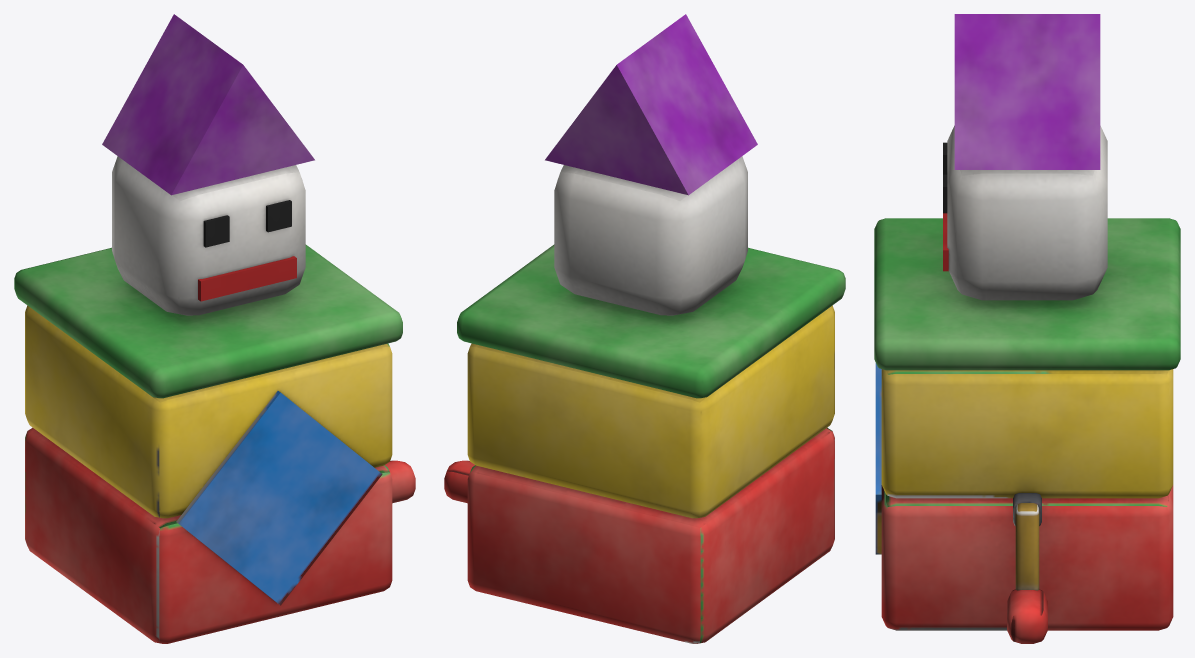
Rendered from jack_in_the_box.fbx.
The picture shows the model from 3 angles, left to right: view 1: azimuth 30°, elevation 25°; view 2: azimuth 150°, elevation 25°; view 3: azimuth 270°, elevation 25°; orthographic projection. The views are drawn at different scales.
Visible parts, largest first — view 1: Body, Jack, Lid, Crank; view 2: Body, Jack, Lid, Crank; view 3: Body, Jack, Lid, Crank.
Part boxes in pixels (x1,y1,x2,y2): Body: (25, 305, 392, 643); Jack: (102, 14, 314, 315); Lid: (14, 244, 402, 398); Crank: (385, 460, 415, 503); Body: (467, 305, 834, 643); Jack: (545, 14, 757, 315); Lid: (457, 244, 845, 398); Crank: (444, 460, 474, 503); Body: (875, 363, 1173, 630); Jack: (943, 14, 1107, 300); Lid: (874, 218, 1180, 370); Crank: (1007, 493, 1047, 643).
Size of the model in its own units: 1.37 by 2.12 by 1.05.
1 material, 1 textured.
